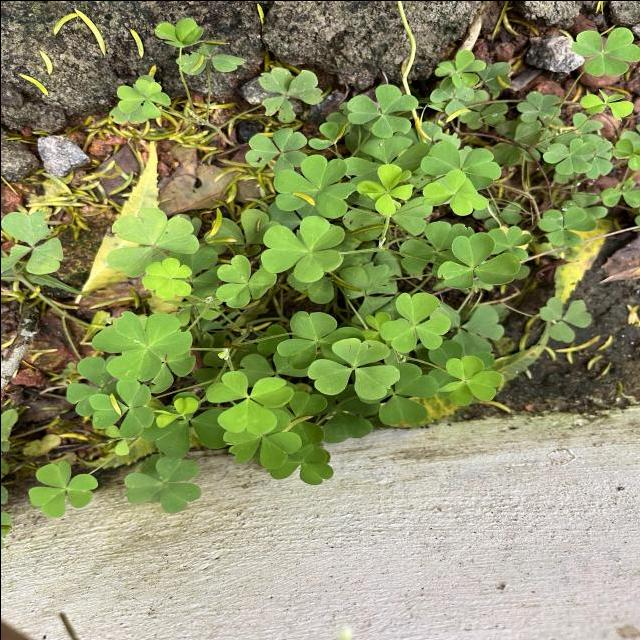Oxalis corniculata: (90, 309, 192, 381), (105, 206, 199, 278), (259, 214, 345, 284), (306, 336, 400, 399), (204, 369, 293, 434), (272, 153, 358, 219), (275, 310, 366, 369), (436, 230, 520, 288), (378, 290, 452, 353), (124, 456, 203, 514), (26, 460, 100, 520), (255, 64, 324, 124), (346, 82, 418, 138), (89, 379, 154, 439), (569, 26, 640, 77), (215, 254, 276, 308), (422, 168, 488, 216), (356, 162, 414, 216), (220, 432, 302, 470), (244, 126, 308, 174), (536, 205, 598, 248), (115, 77, 171, 119), (540, 135, 598, 175), (140, 256, 192, 300), (433, 48, 486, 89), (578, 87, 634, 121)
